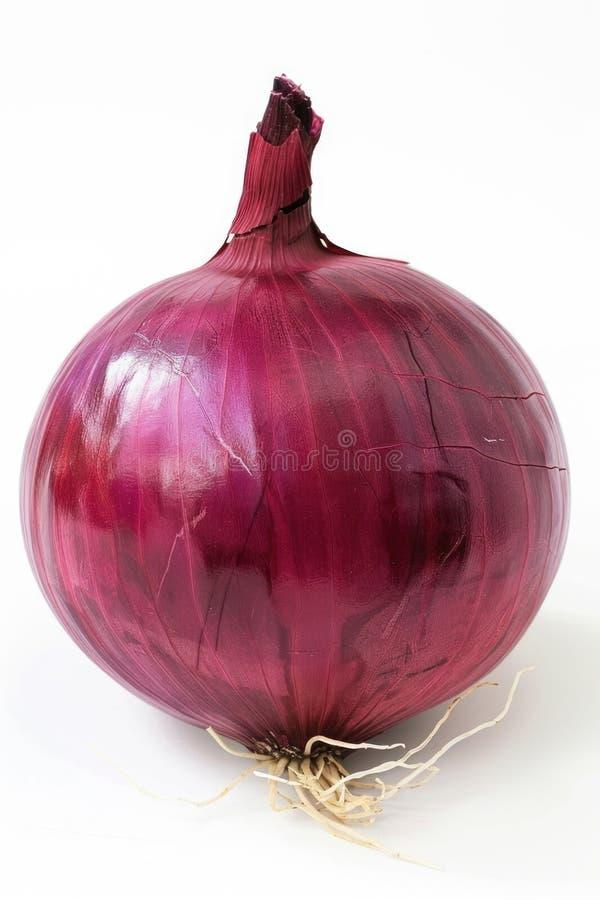Onion: (14, 62, 571, 789)
